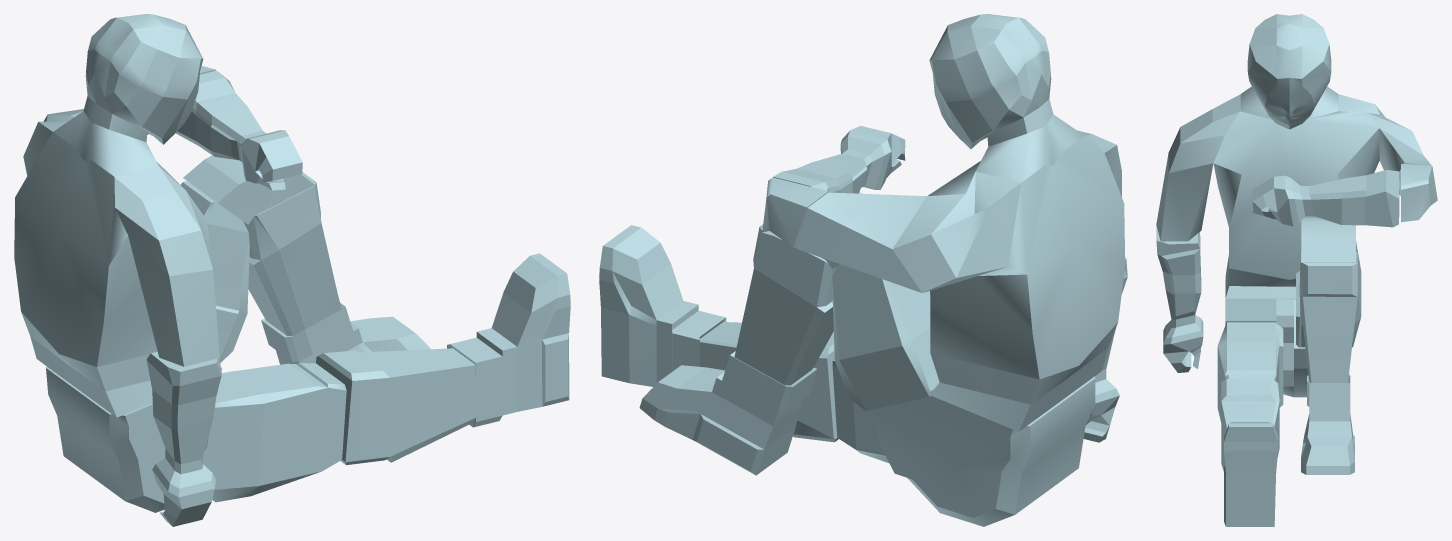
File: helper1.obj
3 renders of one model, left to right at view 1: azimuth 30°, elevation 25°; view 2: azimuth 150°, elevation 25°; view 3: azimuth 270°, elevation 25°, orthographic. The views are drawn at different scales.
Visible parts, largest first — view 1: rightarm_polySurface2; view 2: rightarm_polySurface2; view 3: rightarm_polySurface2.
Part boxes in pixels (box(x1,y1,x2,y2)): rightarm_polySurface2: box(14, 14, 570, 526); rightarm_polySurface2: box(599, 14, 1127, 526); rightarm_polySurface2: box(1156, 14, 1437, 526).
Size of the model in its own units: 3.41 by 3.23 by 2.21.
Materials: 1 (1 with a texture image).
